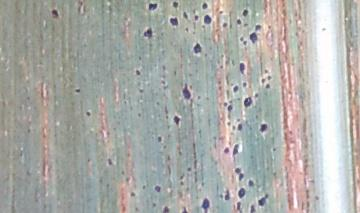tarspot: (178, 81, 196, 105), (141, 24, 157, 41), (199, 196, 215, 213), (257, 119, 272, 137), (236, 58, 250, 77), (170, 112, 186, 128), (257, 191, 271, 208), (190, 41, 205, 56), (231, 141, 243, 159), (48, 7, 63, 21), (242, 94, 256, 109), (167, 16, 183, 29), (104, 156, 119, 169), (159, 79, 172, 92), (146, 1, 160, 13), (202, 13, 214, 26), (236, 187, 249, 199), (233, 123, 247, 133), (249, 32, 261, 43), (103, 179, 114, 191), (224, 188, 233, 202), (152, 182, 163, 193), (200, 1, 211, 12), (216, 6, 227, 17), (240, 6, 250, 18), (253, 22, 265, 32), (133, 66, 143, 77), (216, 192, 227, 202), (232, 165, 244, 174), (235, 201, 244, 213), (160, 205, 173, 213), (223, 118, 233, 128), (247, 178, 257, 188), (24, 166, 33, 177), (231, 83, 240, 94), (181, 9, 190, 20), (223, 145, 232, 156), (185, 162, 194, 173), (320, 23, 329, 34), (84, 109, 94, 118), (18, 148, 27, 158), (241, 80, 250, 90), (249, 203, 258, 213), (153, 97, 162, 107), (170, 1, 181, 9), (312, 194, 323, 202), (74, 86, 83, 95), (119, 168, 128, 177), (187, 81, 196, 90), (237, 172, 246, 181), (165, 153, 174, 162), (221, 21, 231, 29), (235, 16, 243, 26), (234, 115, 244, 123), (132, 205, 142, 213), (176, 174, 189, 180), (176, 181, 191, 186), (156, 134, 165, 142), (137, 86, 145, 95), (242, 38, 250, 47), (85, 156, 93, 165), (181, 205, 190, 213), (172, 69, 180, 77), (264, 82, 272, 90), (253, 91, 261, 99), (136, 54, 144, 62), (271, 146, 279, 154), (123, 176, 132, 183), (25, 127, 34, 134), (161, 63, 168, 72), (237, 33, 246, 40), (262, 68, 271, 75), (226, 105, 235, 112), (150, 202, 160, 208), (267, 22, 273, 32), (129, 190, 137, 197), (193, 14, 200, 22), (267, 73, 274, 81), (218, 63, 225, 71), (219, 52, 227, 59), (205, 95, 212, 103), (98, 175, 104, 184), (271, 171, 280, 177), (136, 111, 143, 118), (260, 76, 266, 84), (177, 151, 185, 157), (141, 183, 147, 190), (244, 21, 250, 28), (216, 79, 223, 85), (196, 94, 202, 101), (184, 27, 191, 33), (217, 86, 223, 92), (222, 100, 227, 107)
